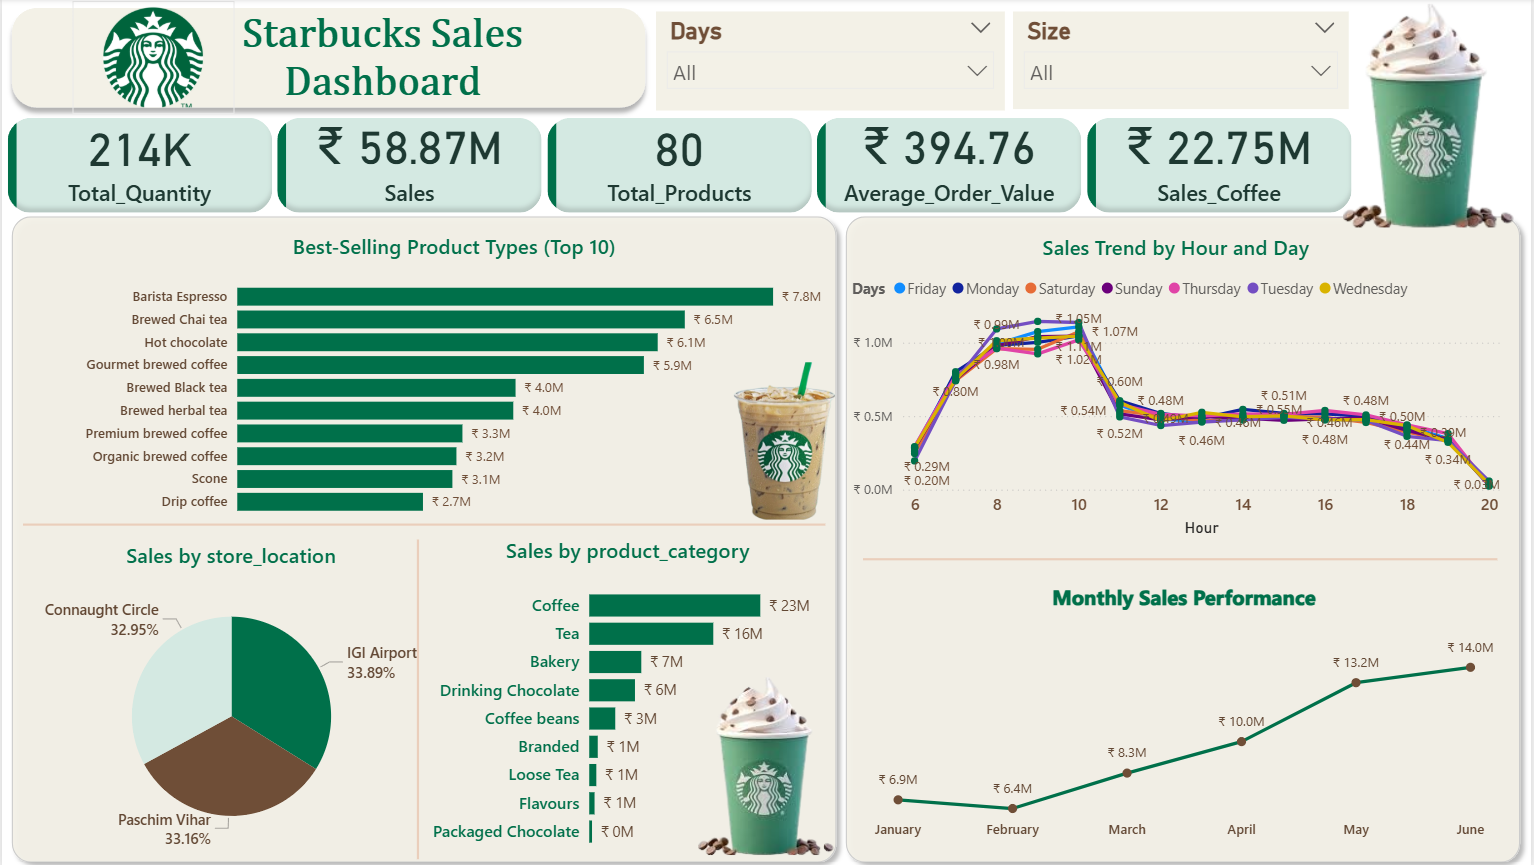

Layout of this report page (visuals, bound fields, positions):
{"tool":"powerbi","page":{"name":"Dashboard","canvas":[1400,800],"ordinal":0},"visuals":[{"type":"shape","box":[0,190.4,772.8,609.6],"z":0},{"type":"cardVisual","fields":{"Data":["Table.Total_Quantity","Table.Sales","Table.Total_Products","Table.Average_Order_Value","Table.Sales_Coffee"]},"box":[0,104.3,1242.1,97.7],"z":1000},{"type":"shape","box":[0,0,597.9,109.3],"z":2000},{"type":"image","box":[64,3.2,148.8,102.4],"z":3000},{"type":"textbox","box":[152,6.4,392,102.4],"z":4000},{"type":"shape","box":[763.2,190.4,635.2,609.6],"z":5000},{"type":"lineChart","title":"Monthly Sales Performance","fields":{"Y":["Table.Sales"],"Category":["Orders_Table.transaction_date.Variation.Date Hierarchy.Year","Orders_Table.transaction_date.Variation.Date Hierarchy.Quarter","Orders_Table.transaction_date.Variation.Date Hierarchy.Month","Orders_Table.transaction_date.Variation.Date Hierarchy.Day"]},"box":[773.4,534.9,617.7,243.5],"z":6000},{"type":"barChart","fields":{"Y":["Table.Sales"],"Category":["Product_Table.product_category"]},"box":[387.2,492.8,371.2,296],"z":7000},{"type":"pieChart","fields":{"Category":["Orders_Table.store_location"],"Y":["Table.Sales"]},"box":[33.6,497.6,353.6,291.2],"z":8000},{"type":"lineChart","title":"Sales Trend by Hour and Day","fields":{"Series":["Orders_Table.Days"],"Category":["Orders_Table.Hour"],"Y":["Table.Sales"]},"box":[773.4,215.3,602.8,281.5],"z":9000},{"type":"shape","box":[788.8,492.8,580.8,41.6],"z":10000},{"type":"barChart","title":"Best-Selling Product Types (Top 10)","fields":{"Category":["Product_Table.product_type"],"Y":["Table.Sales"]},"box":[70.4,214.4,688,268.8],"z":11000},{"type":"shape","box":[19.2,467.2,734.4,30.4],"z":12000},{"type":"shape","box":[348.8,496,64,292.8],"z":13000},{"type":"slicer","fields":{"Values":["Orders_Table.Day Name"]},"box":[598.8,12.7,319.2,90.4],"z":14000},{"type":"slicer","fields":{"Values":["Product_Table.Size"]},"box":[924.8,12.8,307.2,89.6],"z":15000},{"type":"image","box":[1210.7,0,188.8,215.3],"z":16000},{"type":"image","box":[659.8,327.1,112.1,157],"z":17000},{"type":"image","box":[623.4,616.5,152.4,173],"z":18000}]}

Visuals, with their boxes in screenshot pixels (x1, y1, x2, y2), scaled from the page's 1400x800 canvas onto the 1534x865 screenshot:
shape: 0 206 847 864
cardVisual - Table.Total_Quantity x Table.Sales: 0 113 1361 218
shape: 0 0 655 118
image: 70 3 233 114
textbox: 167 7 596 118
shape: 836 206 1532 864
"Monthly Sales Performance" lineChart: 847 578 1524 842
barChart - Table.Sales x Product_Table.product_category: 424 533 831 853
pieChart - Orders_Table.store_location x Table.Sales: 37 538 424 853
"Sales Trend by Hour and Day" lineChart: 847 233 1508 537
shape: 864 533 1501 578
"Best-Selling Product Types (Top 10)" barChart: 77 232 831 522
shape: 21 505 826 538
shape: 382 536 452 853
slicer - Orders_Table.Day Name: 656 14 1006 111
slicer - Product_Table.Size: 1013 14 1350 111
image: 1327 0 1533 233
image: 723 354 846 523
image: 683 667 850 854
